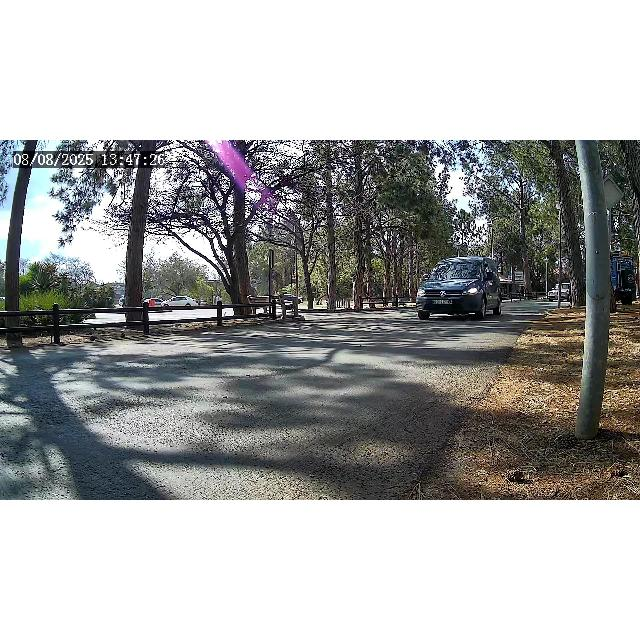car: (416, 256, 504, 320)
plate: (432, 298, 454, 306)
